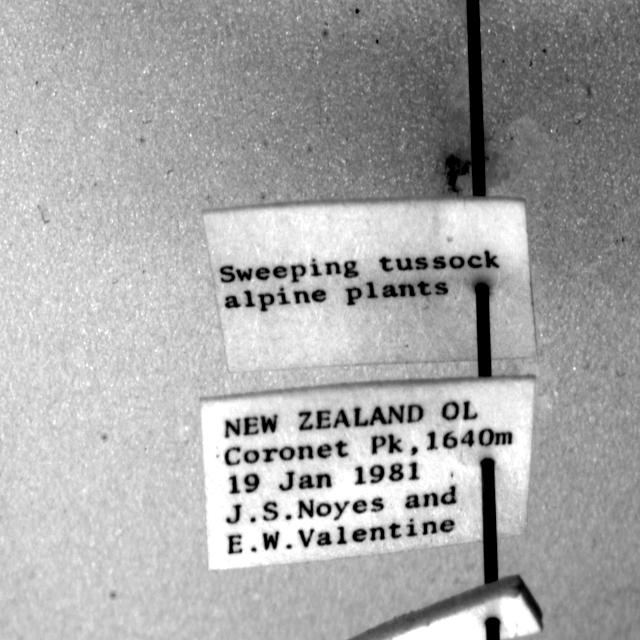typed_label: (201, 377, 535, 570), (204, 197, 536, 371)
